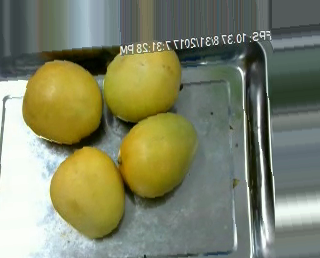Mango: (49, 144, 126, 243), (18, 57, 106, 143), (117, 110, 202, 199), (102, 40, 186, 118)
